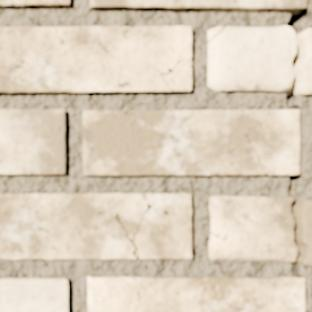brick: (84, 111, 299, 175), (0, 194, 192, 259), (0, 28, 192, 92), (89, 278, 305, 311), (0, 110, 65, 174), (91, 0, 307, 11), (0, 279, 67, 311), (165, 63, 192, 91), (0, 0, 70, 7)
broken_brick: (209, 195, 297, 262), (208, 26, 297, 92), (300, 28, 311, 96), (303, 200, 311, 266), (208, 26, 223, 39)
crack: (286, 2, 310, 309), (114, 202, 153, 260), (151, 45, 193, 92), (244, 133, 275, 175), (208, 27, 227, 44)
